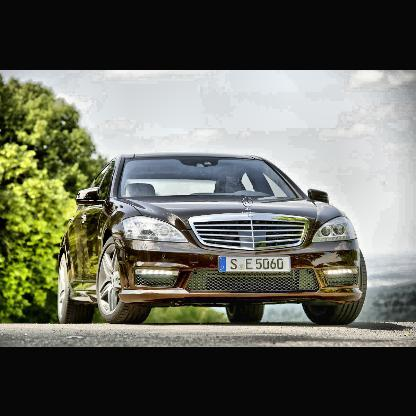Mercedes-Benz S-Class Sedan 2012: (58, 152, 369, 325)
